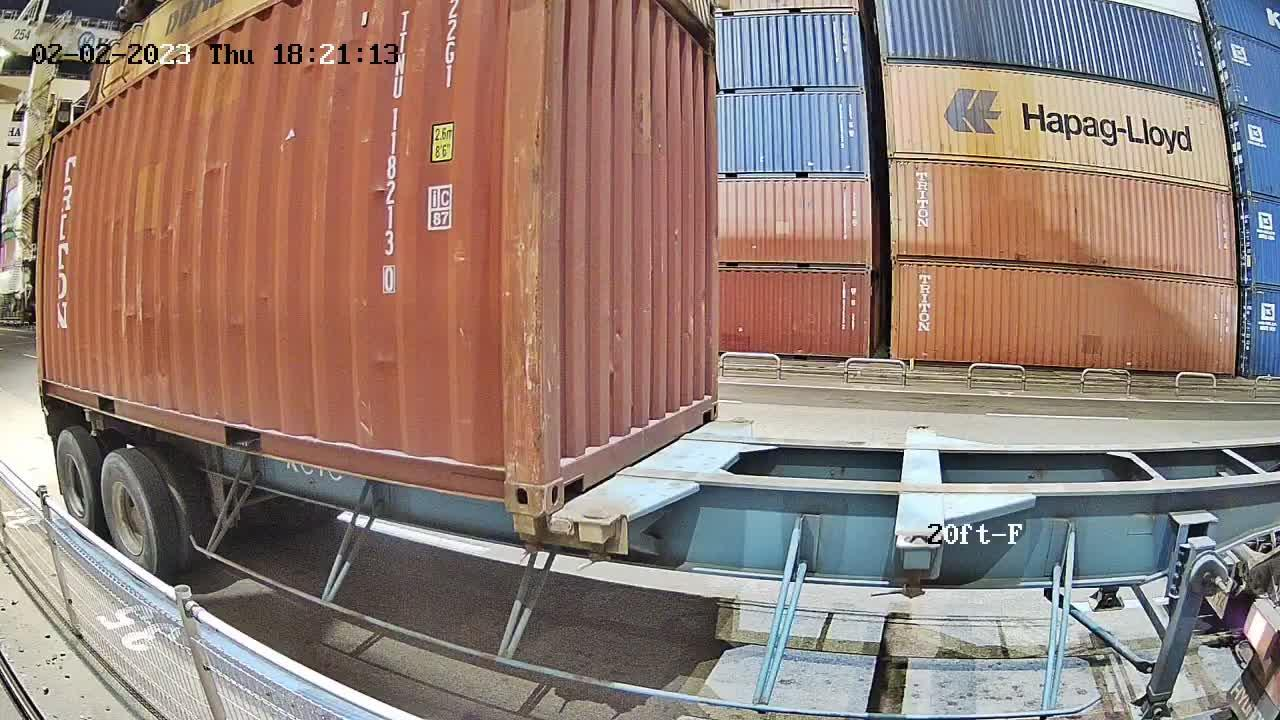Chassis: (578, 419, 753, 524)
Cone: (576, 512, 623, 564), (508, 511, 537, 549)
Hole_L: (542, 419, 592, 516)
Hole_R: (475, 431, 542, 516), (697, 385, 718, 427)
Tire: (103, 453, 157, 580), (57, 432, 96, 536)
